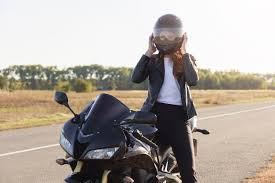com_capacete: (153, 11, 183, 54)
